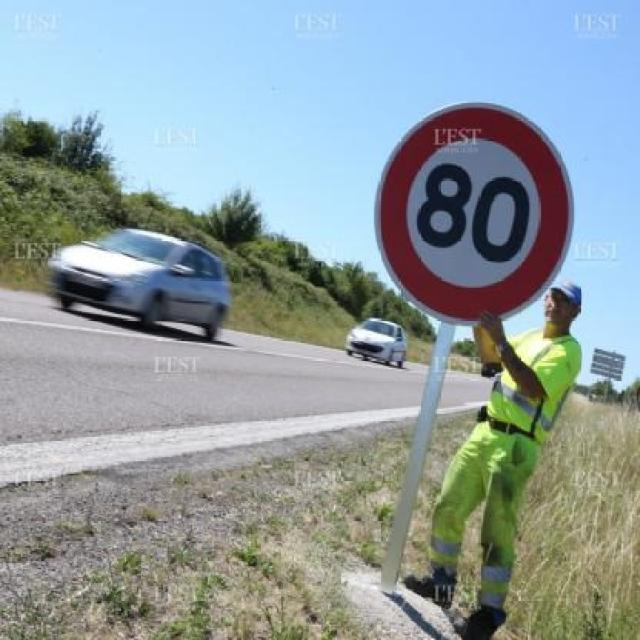forb_speed_over_80: (390, 115, 561, 317)
